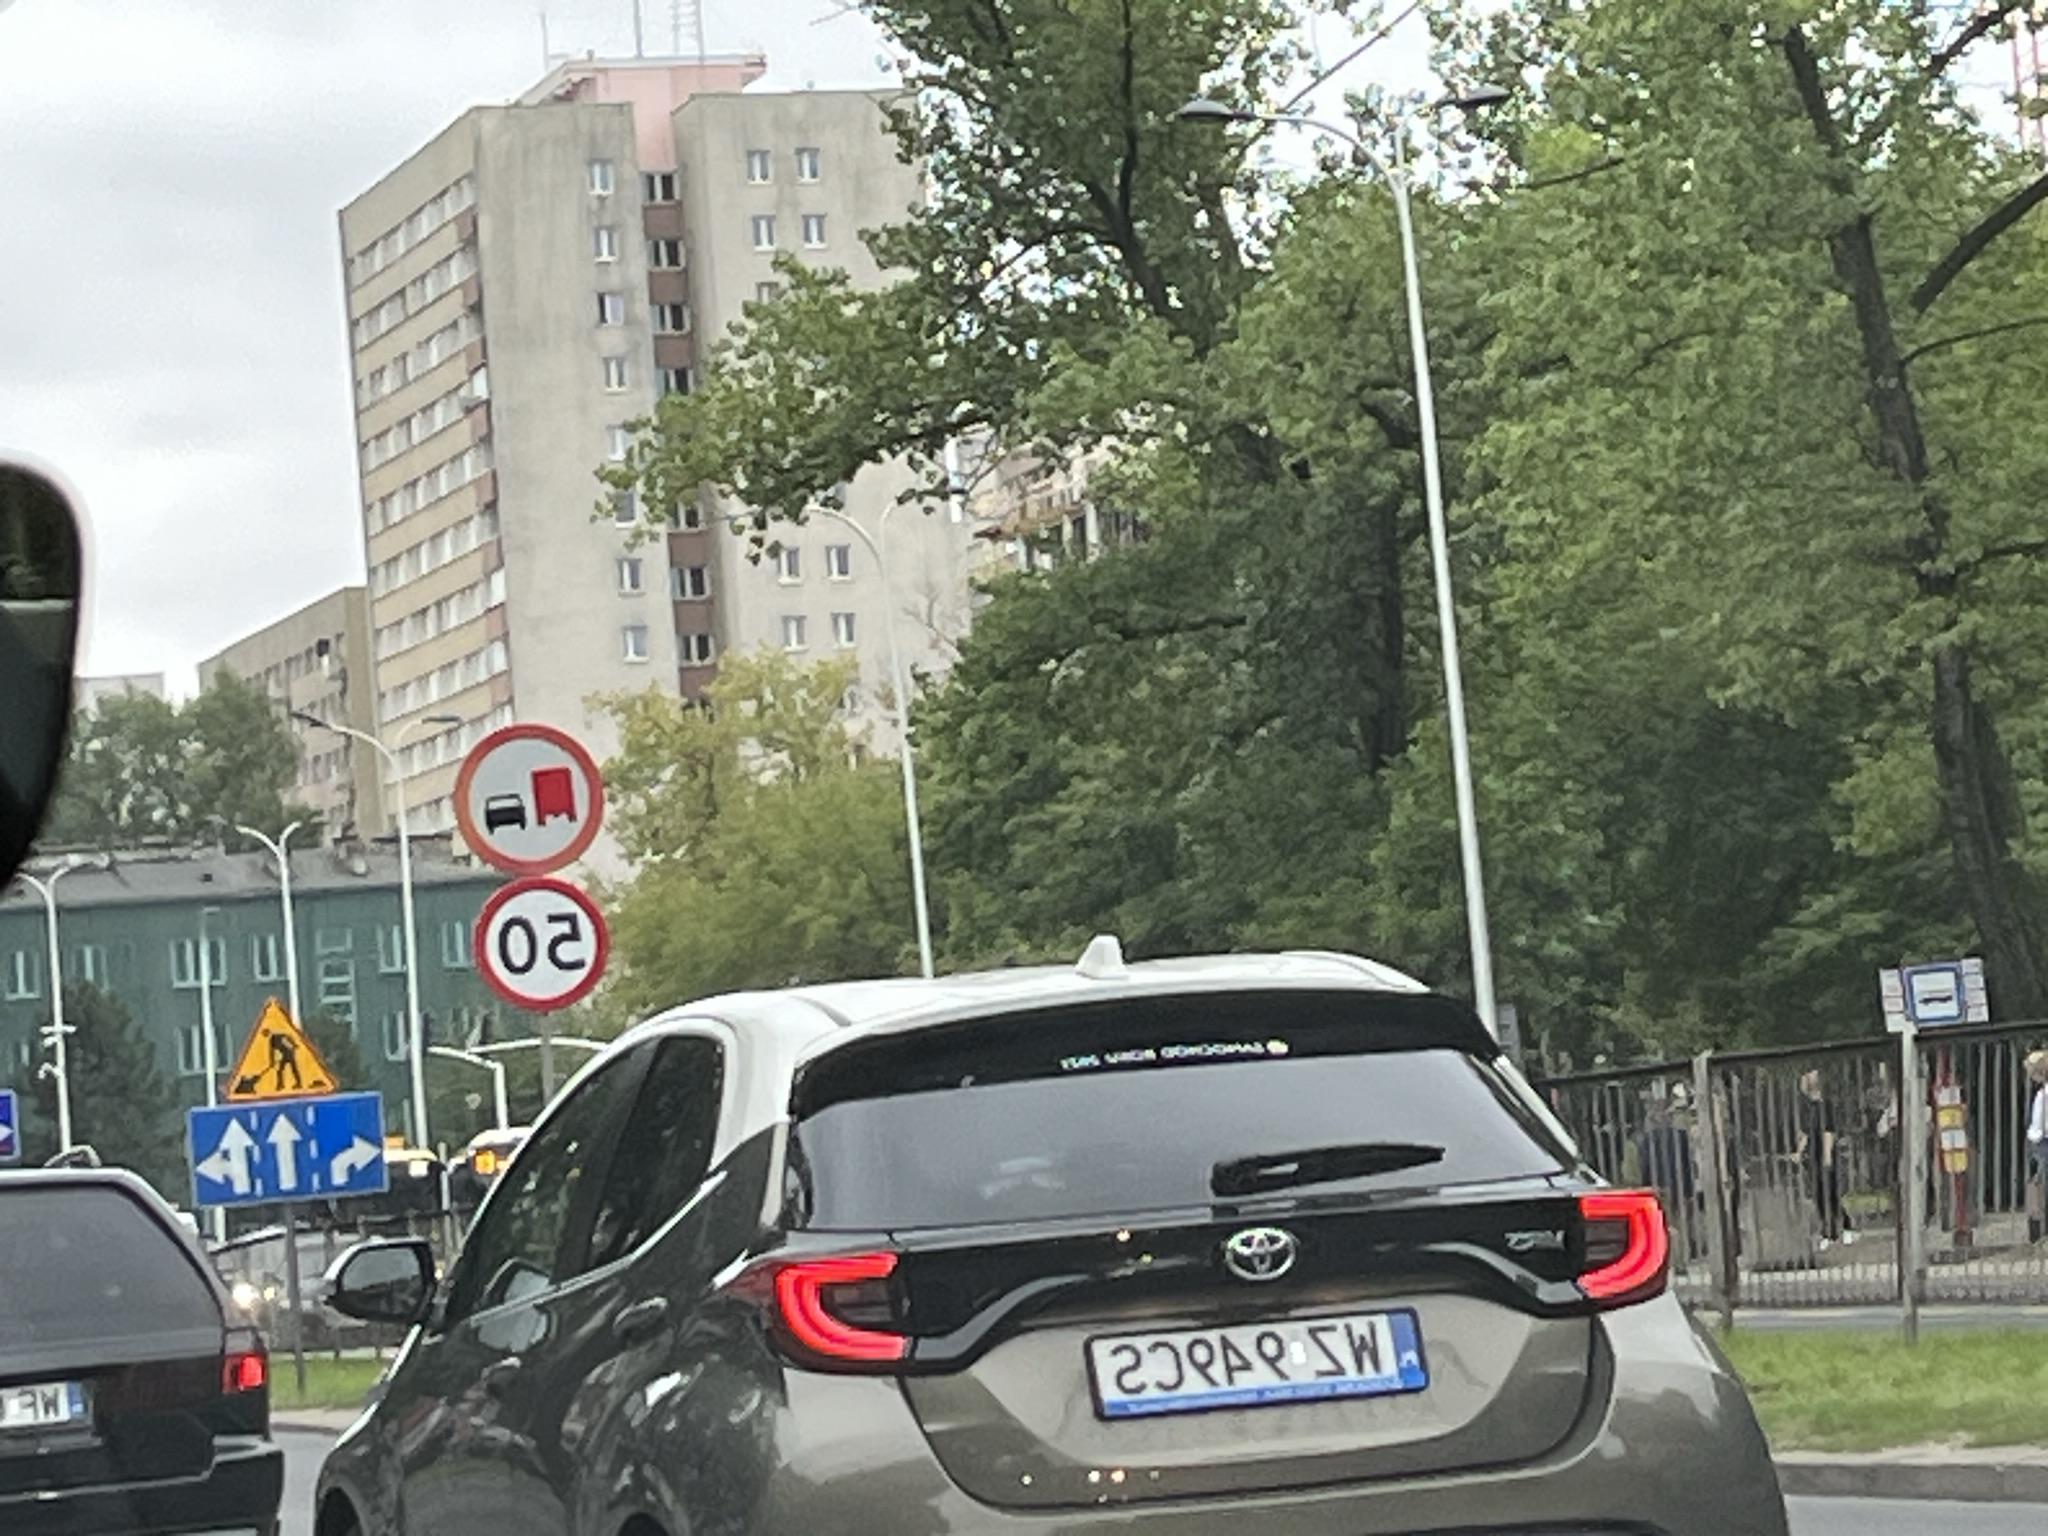information: (0, 1087, 19, 1162)
other: (185, 1087, 389, 1212)
prohibitory: (455, 721, 605, 878), (471, 874, 611, 1013)
warning: (226, 994, 337, 1104)
